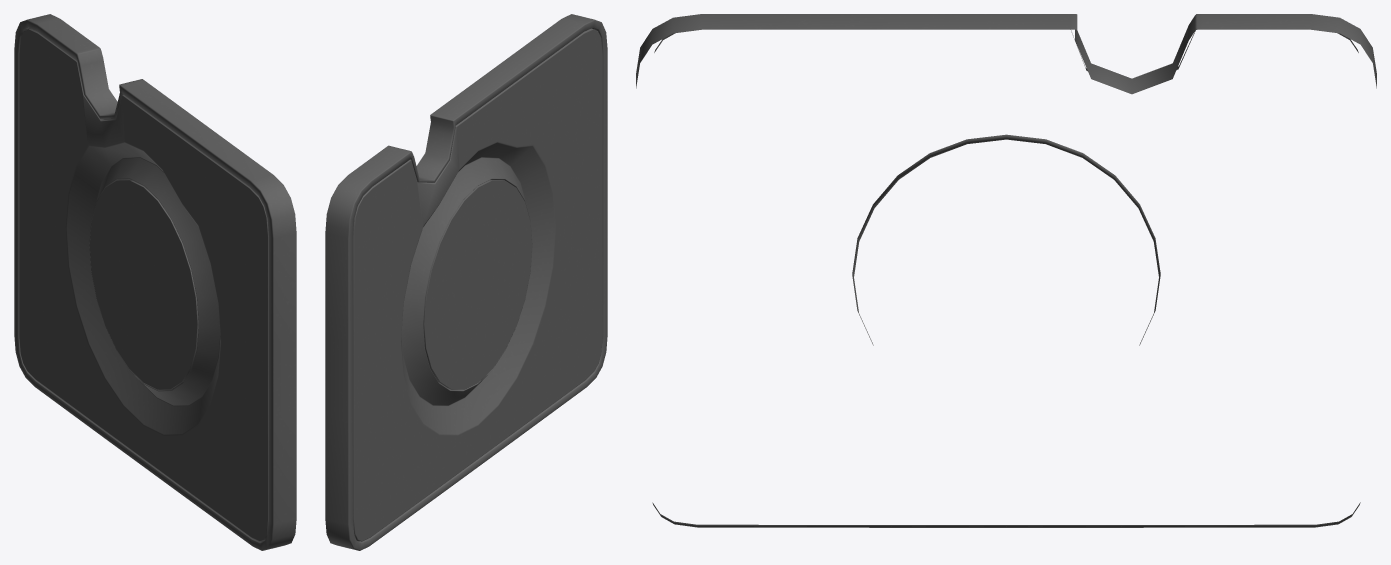
The model's file is baking_23.glb.
The picture shows the model from 3 angles, left to right: view 1: azimuth 30°, elevation 25°; view 2: azimuth 150°, elevation 25°; view 3: azimuth 270°, elevation 25°; orthographic projection. The views are drawn at different scales.
Visible parts, largest first — view 1: StaticMeshActor_54_004; view 2: StaticMeshActor_54_004; view 3: StaticMeshActor_54_004.
Boxes of the visible parts, box(x1,y1,x2,y2) form: StaticMeshActor_54_004: box(14, 14, 296, 550); StaticMeshActor_54_004: box(325, 14, 607, 550); StaticMeshActor_54_004: box(636, 14, 1376, 527).
Size of the model in its own units: 0.026 by 0.3864 by 0.4979.
Materials: 1 (1 with a texture image).
